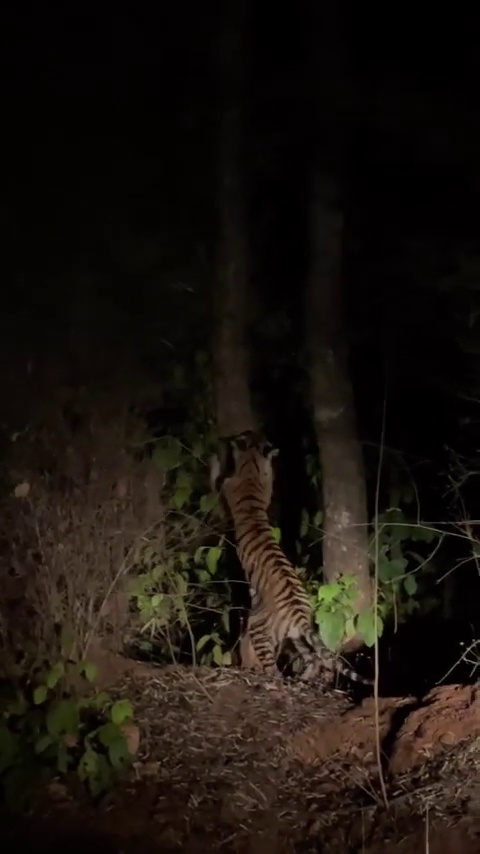Tiger: (208, 429, 379, 689)
